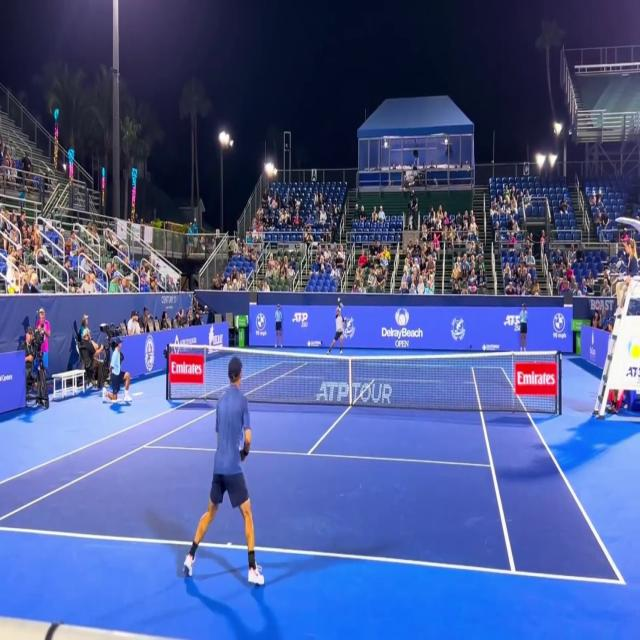tennisBall: (345, 318, 352, 329)
